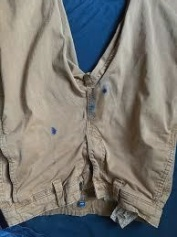ink: (87, 104, 95, 118), (52, 127, 57, 135), (102, 90, 107, 93)
